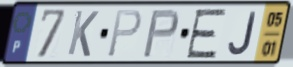7: (39, 7, 68, 60)
E: (184, 7, 229, 60)
J: (227, 10, 259, 56)
K: (65, 9, 101, 59)
P: (140, 8, 181, 60), (105, 8, 144, 59)
